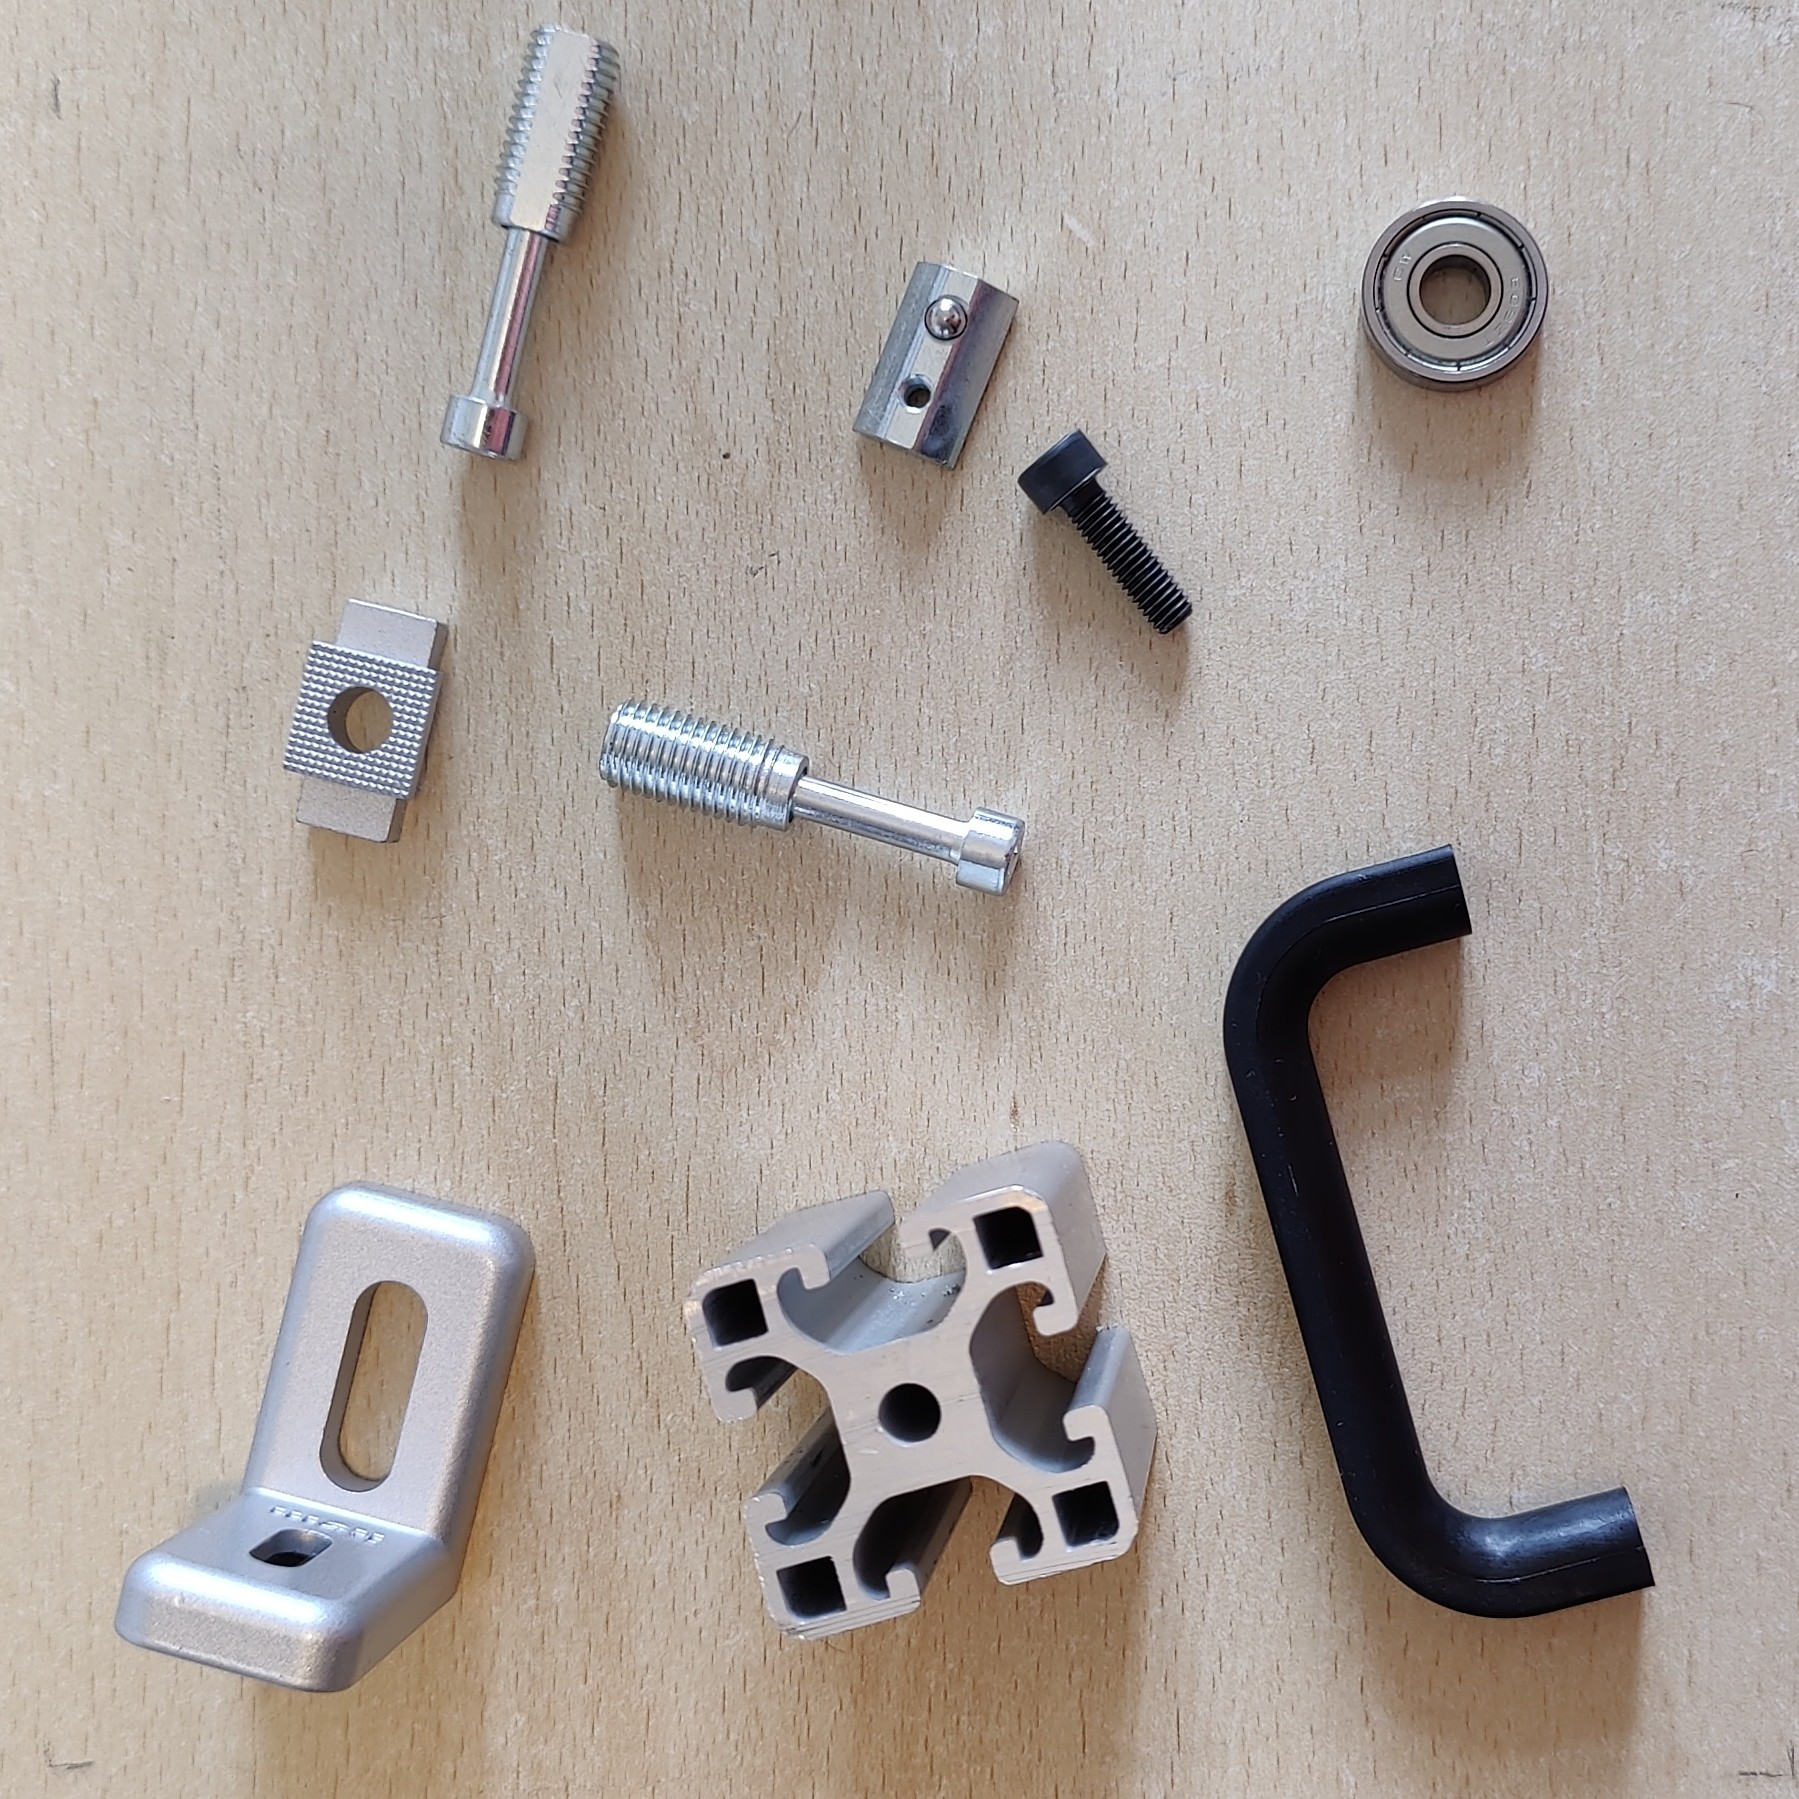Aluminium Extension: (680, 1138, 1161, 1642)
Ball Bearing: (1354, 193, 1550, 395)
Multiwinkel: (110, 1180, 537, 1695)
Pull Handle: (1221, 839, 1657, 1623)
Shoulder Socket Head Cap Screw: (596, 690, 1030, 899), (433, 21, 623, 466)
Socket Head Cap Screw: (1015, 427, 1196, 639)
T Nut Square: (278, 595, 453, 847)
T Spring Nut: (850, 257, 1023, 474)
